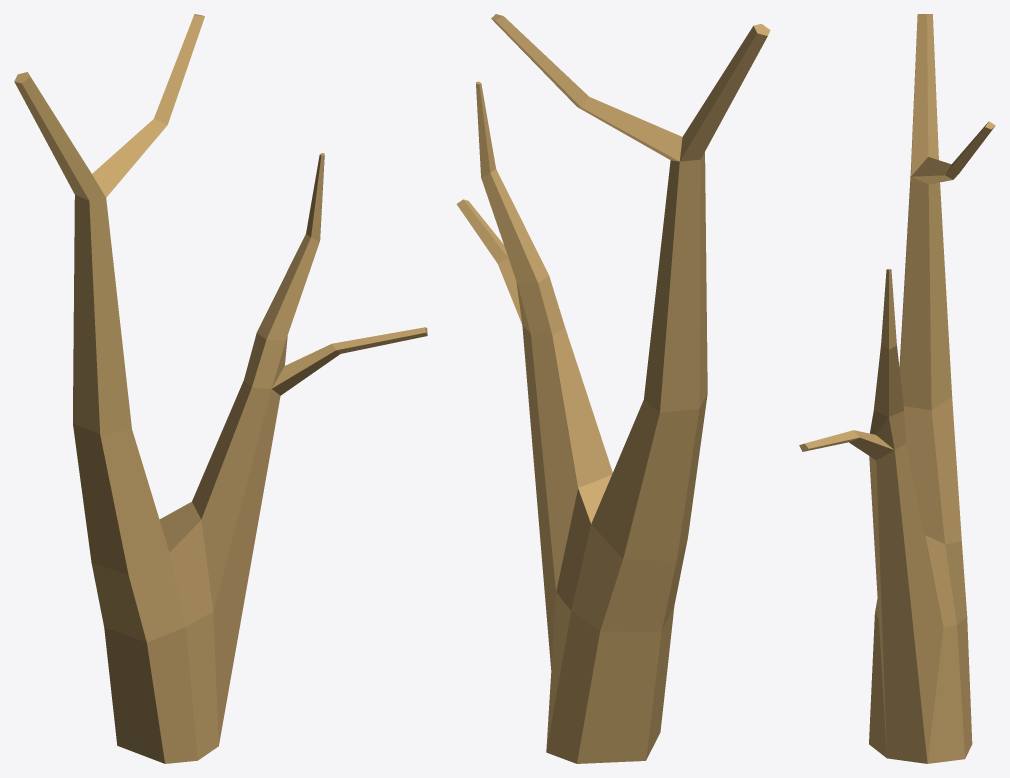
File: Simple_Tree_NoLeaves_m_03.fbx
3 renders of one model, left to right at view 1: azimuth 30°, elevation 25°; view 2: azimuth 150°, elevation 25°; view 3: azimuth 270°, elevation 25°, orthographic. The views are drawn at different scales.
Visible parts, largest first — view 1: Simple_Tree_NoLeaves_m_03; view 2: Simple_Tree_NoLeaves_m_03; view 3: Simple_Tree_NoLeaves_m_03.
Part boxes in pixels (x1,y1,x2,y2): Simple_Tree_NoLeaves_m_03: (14,14,427,763); Simple_Tree_NoLeaves_m_03: (456,14,770,763); Simple_Tree_NoLeaves_m_03: (799,14,995,763).
Bounding box in the file's own units: 296 × 565 × 151.
